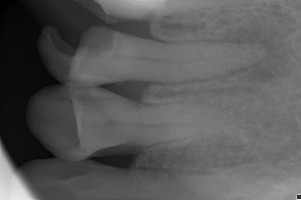Furcation Involvement: (220, 19, 294, 84)
